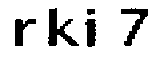7: (116, 3, 149, 49)
i: (83, 6, 101, 50)
k: (44, 5, 80, 50)
r: (11, 17, 38, 49)
